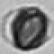correct: (2, 4, 52, 52)
